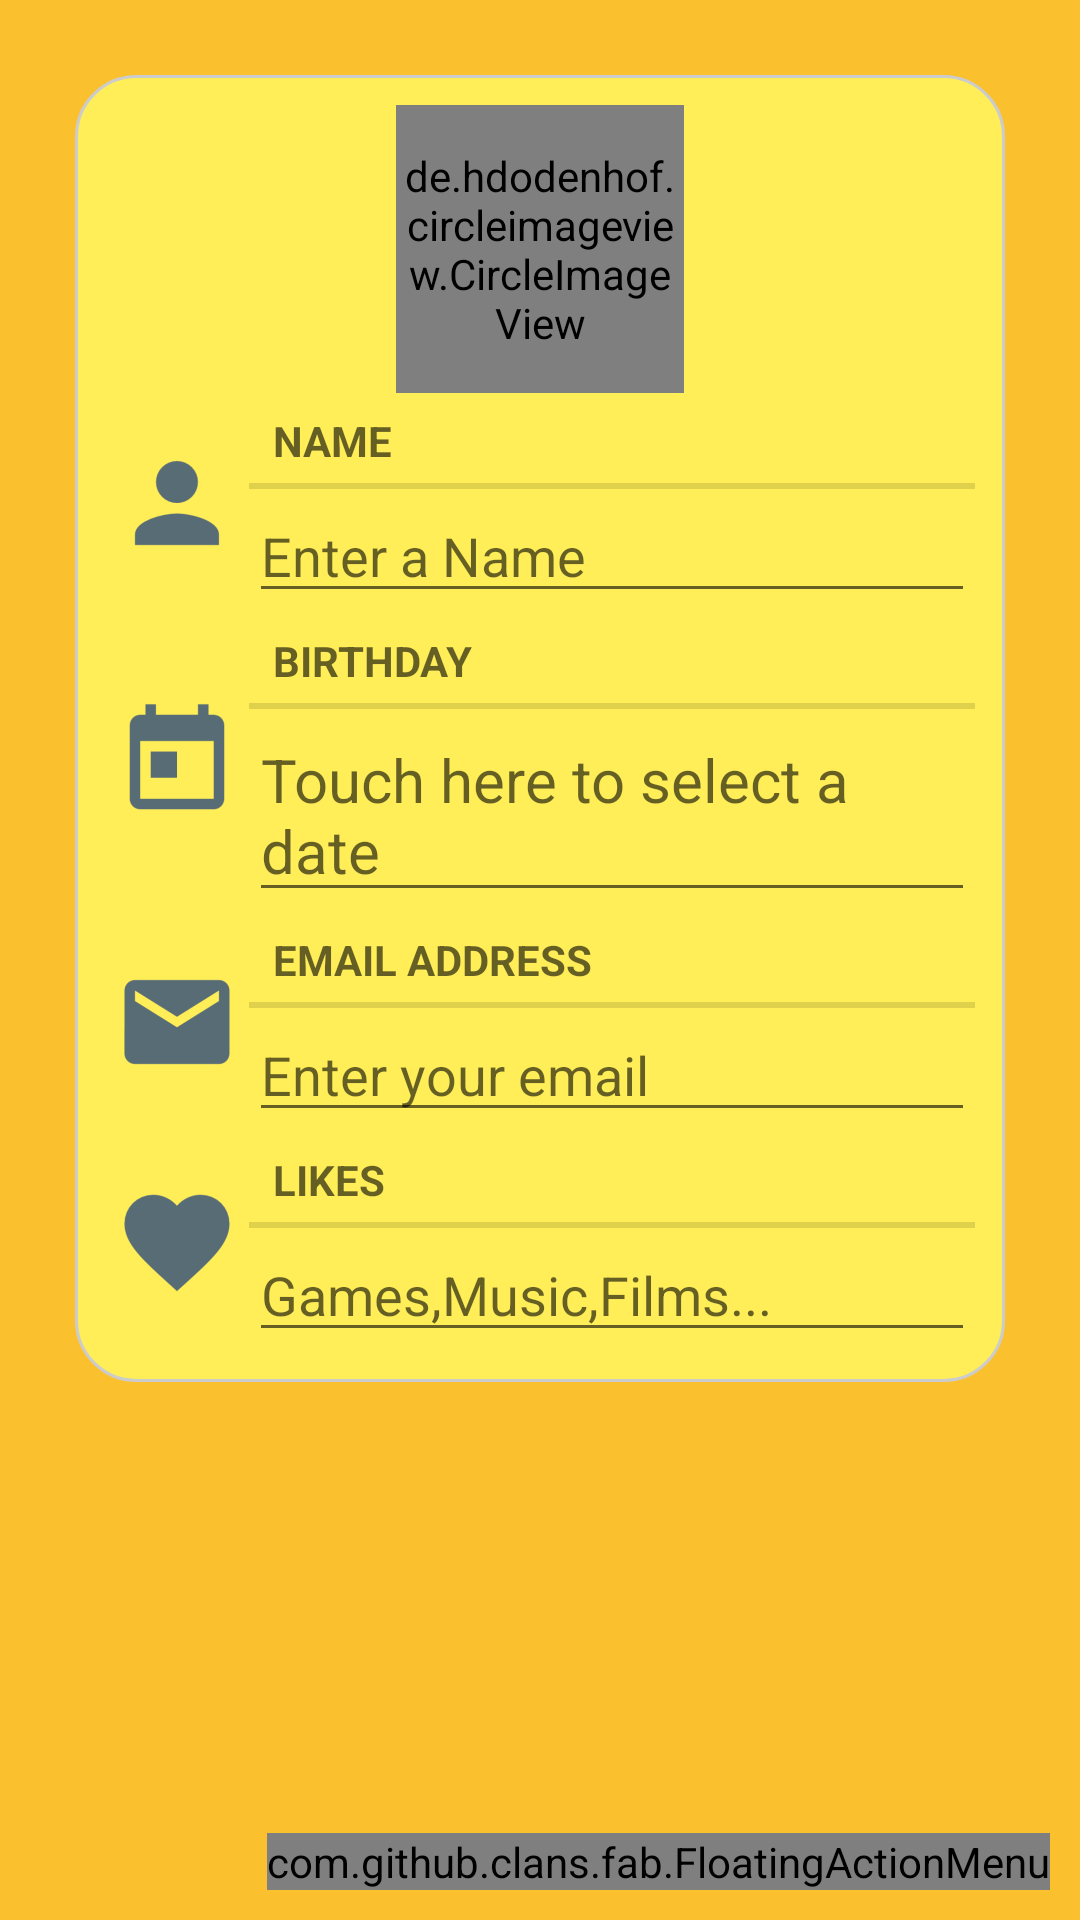

Icon bounding boxes for this 1080px×1920px phone screenshot, format {"x1": x1, "y1": y1, "x2": x2, "y2": y2}:
person: {"x1": 135, "y1": 461, "x2": 219, "y2": 545}
